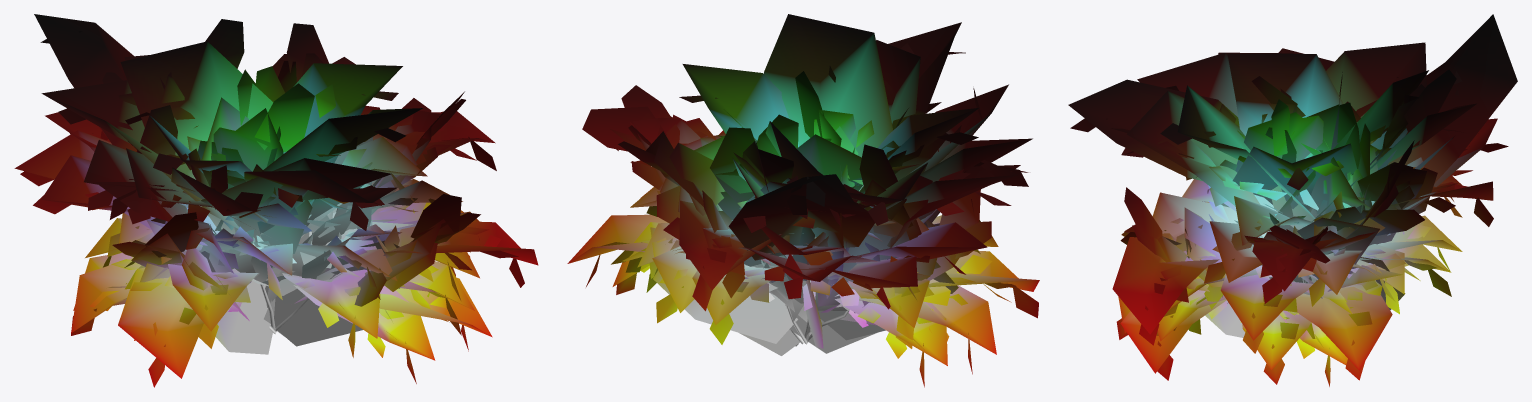
Rendered from arden_forest_bush_flower_03.fbx.
3 renders of one model, left to right at view 1: azimuth 30°, elevation 25°; view 2: azimuth 150°, elevation 25°; view 3: azimuth 270°, elevation 25°, orthographic. The views are drawn at different scales.
Parts seen in each view (by area): view 1: arden_forest_bush_flower_03; view 2: arden_forest_bush_flower_03; view 3: arden_forest_bush_flower_03.
Boxes of the visible parts, x1,y1,x2,y2 form: arden_forest_bush_flower_03: (14, 14, 538, 387); arden_forest_bush_flower_03: (567, 14, 1039, 387); arden_forest_bush_flower_03: (1068, 14, 1517, 386).
Bounding box in the file's own units: 2.47 × 2.49 × 1.62.
